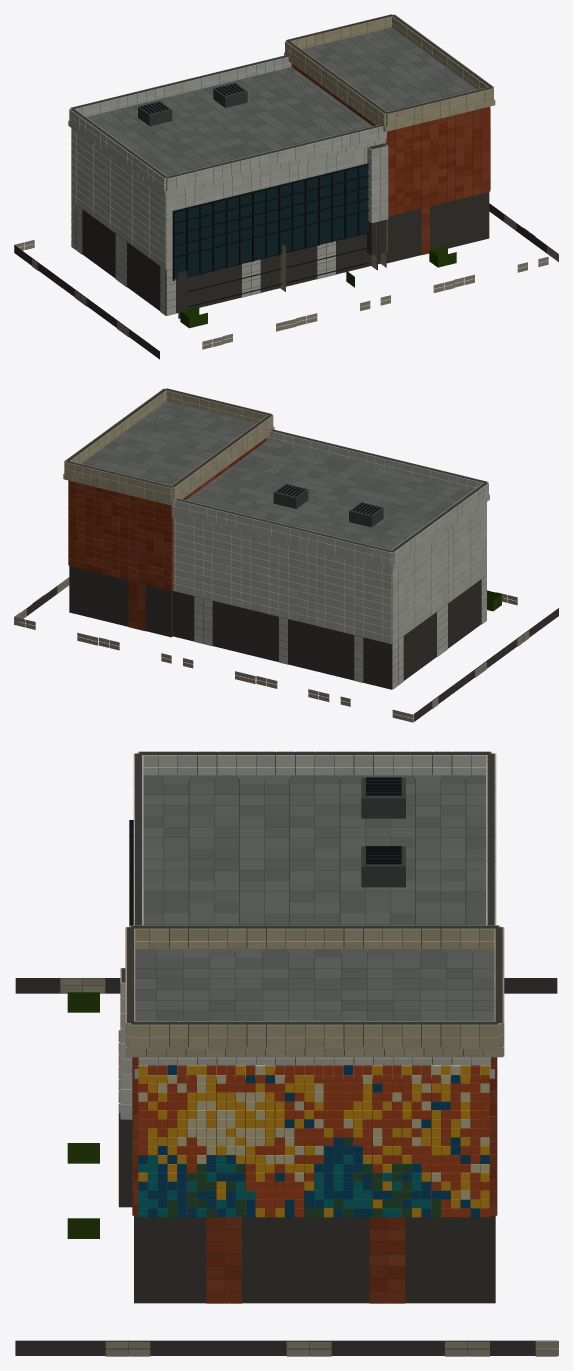
Rendered from SM_StreetFrontage_083.fbx.
3 renders of one model, top to bottom at view 1: azimuth 30°, elevation 25°; view 2: azimuth 150°, elevation 25°; view 3: azimuth 270°, elevation 25°, orthographic. The views are drawn at different scales.
Parts seen in each view (by area): view 1: SM_StreetFrontage_083; view 2: SM_StreetFrontage_083; view 3: SM_StreetFrontage_083.
Part boxes in pixels (left/top/right/bottom): SM_StreetFrontage_083: left=14, top=14, right=558, bottom=359; SM_StreetFrontage_083: left=14, top=388, right=558, bottom=722; SM_StreetFrontage_083: left=15, top=751, right=558, bottom=1356.
Size of the model in its own units: 24 by 15.19 by 9.23.
